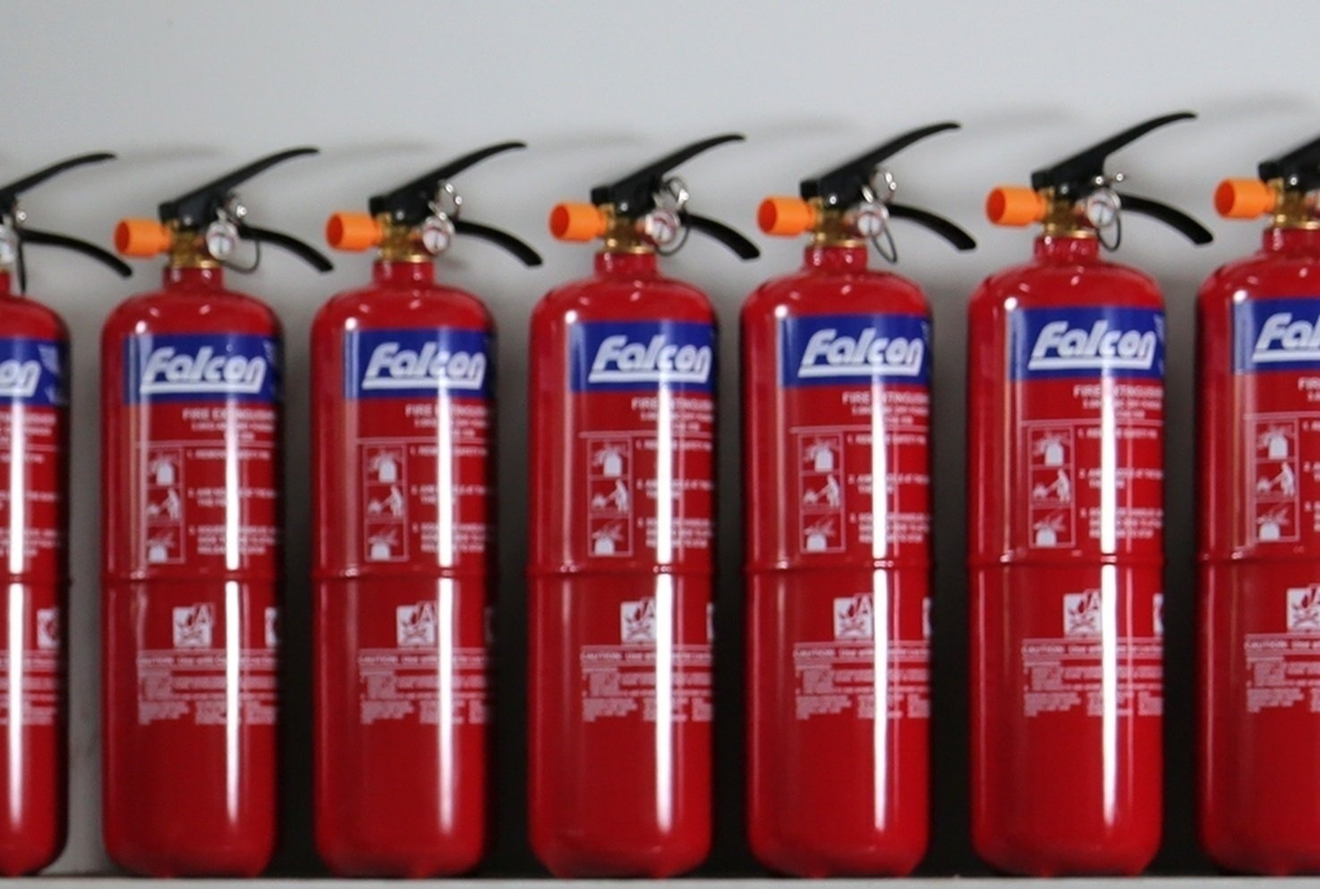fire_extinguisher: (966, 110, 1214, 878), (739, 121, 978, 878), (525, 132, 761, 879), (309, 140, 543, 878), (99, 145, 333, 878), (0, 150, 131, 877), (1194, 134, 1319, 877)
